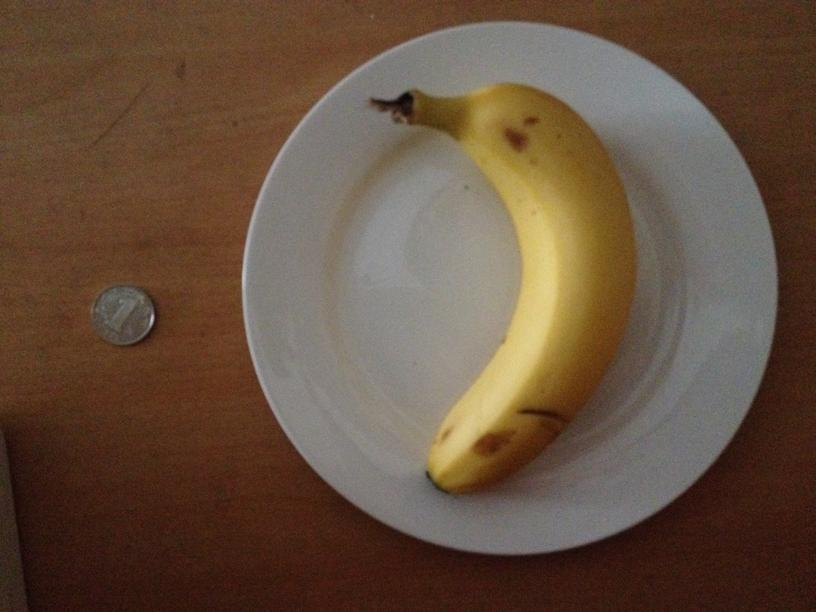banana: (389, 77, 638, 495)
coin: (94, 285, 155, 347)
